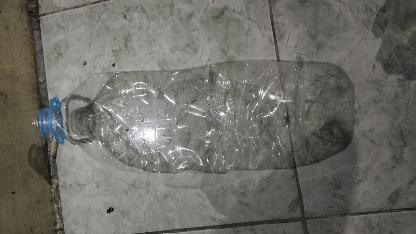Plastic Bottle: (32, 60, 356, 174)
